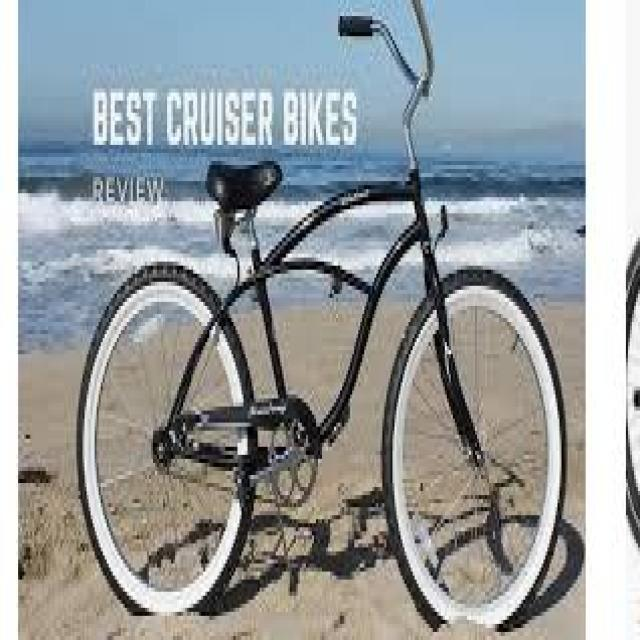bicycle: (98, 1, 567, 640)
